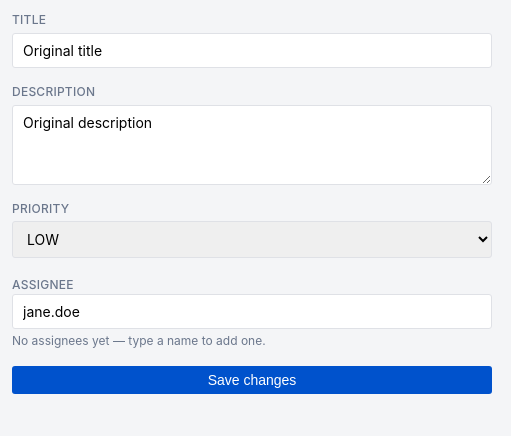
Test: TicketForm › edit mode: shows field-level errors inline on a 400 and keeps the user's typed values
Clear the dropdown labelled "Assignee" at (252, 312), box [12,294,492,329]
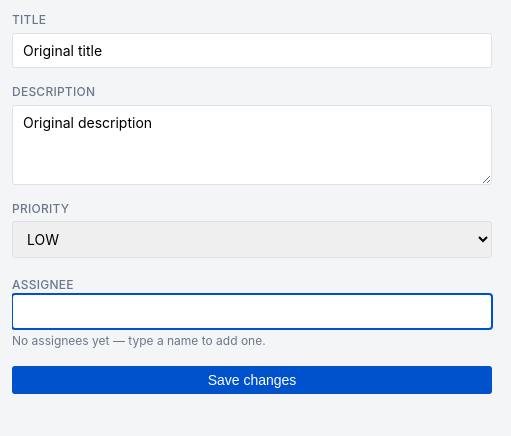
Click the button "Save changes".
click(252, 380)  # box [12,366,492,394]
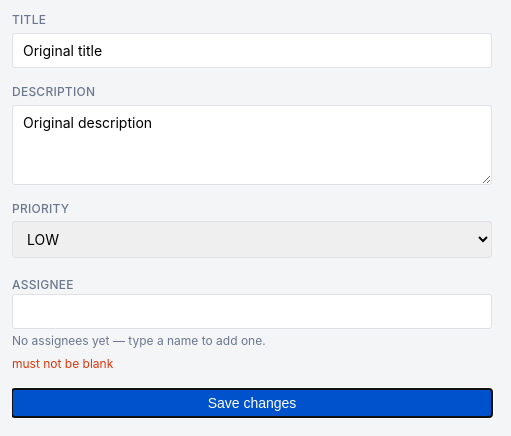
Check: the field labelled "Title" holds "Original title", box [12,33,492,68]
Check: the text "must not be blank" is shown, box [12,356,113,371]
